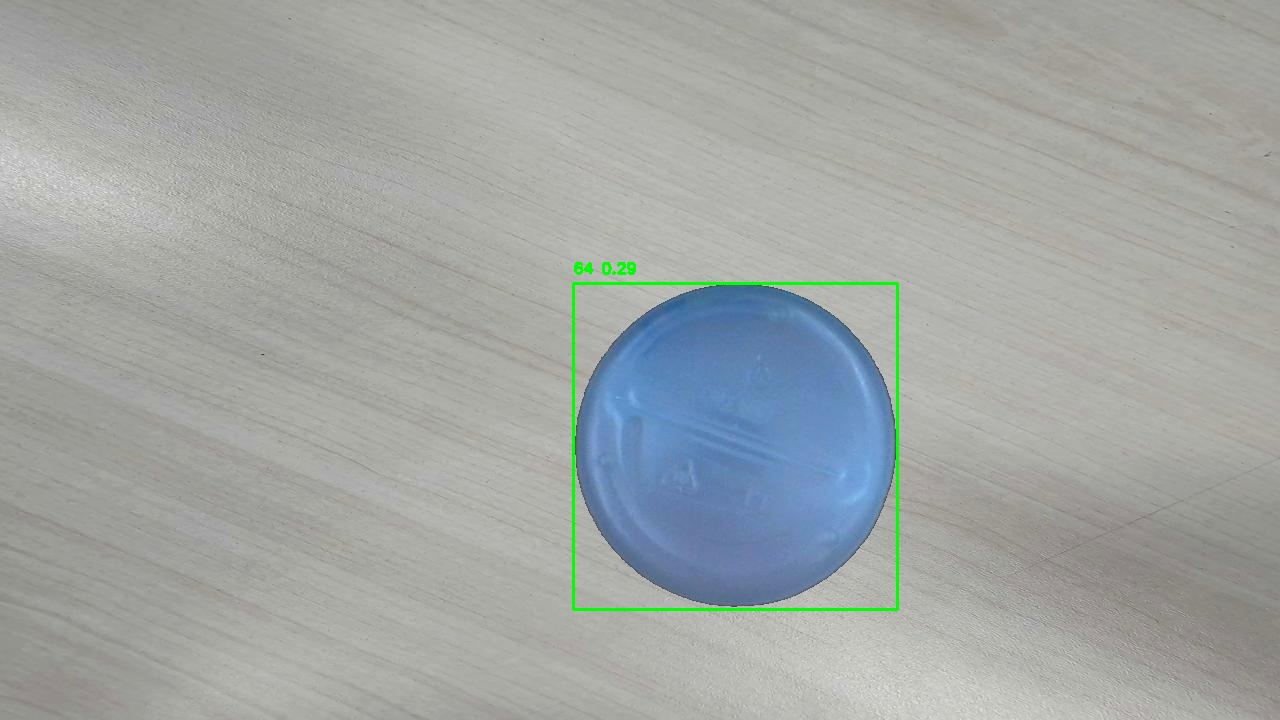cup: (573, 283, 897, 609)
